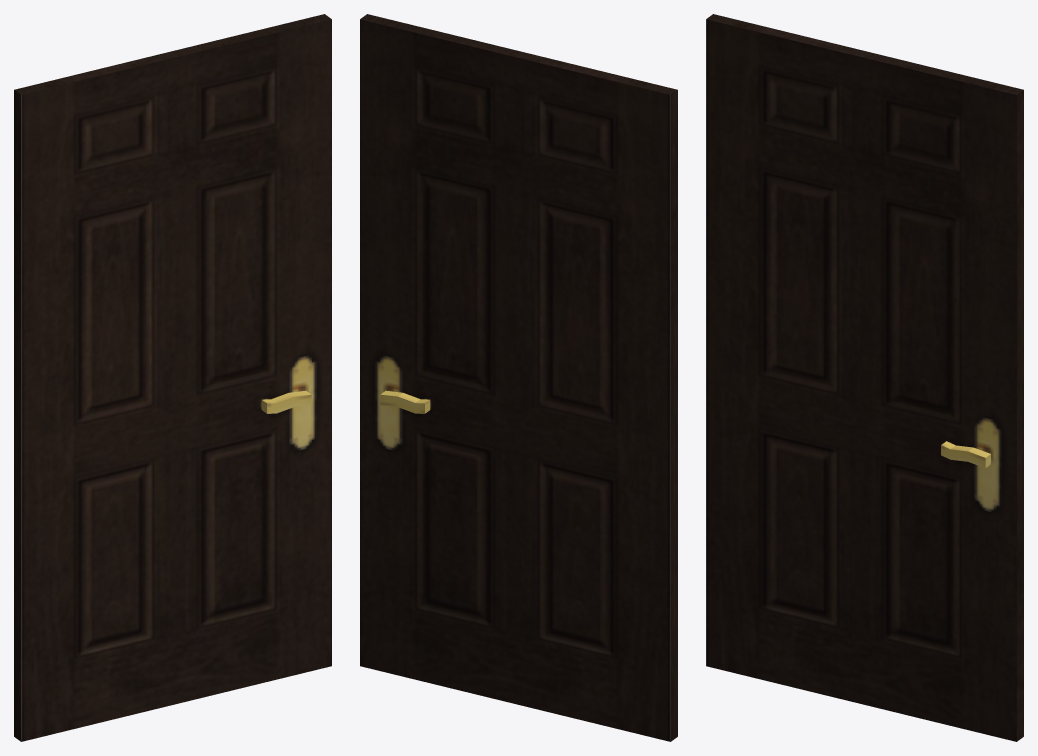
File: door_1.glb
The picture shows the model from 3 angles, left to right: view 1: azimuth 30°, elevation 25°; view 2: azimuth 150°, elevation 25°; view 3: azimuth 330°, elevation 25°; orthographic projection.
Parts seen in each view (by area): view 1: door1_Cube; view 2: door1_Cube; view 3: door1_Cube.
Boxes of the visible parts, box(x1,y1,x2,y2) form: door1_Cube: box(14, 14, 331, 741); door1_Cube: box(360, 14, 677, 741); door1_Cube: box(706, 14, 1023, 741).
Bounding box in the file's own units: 1 × 1.99 × 0.1.
1 material, 1 textured.
